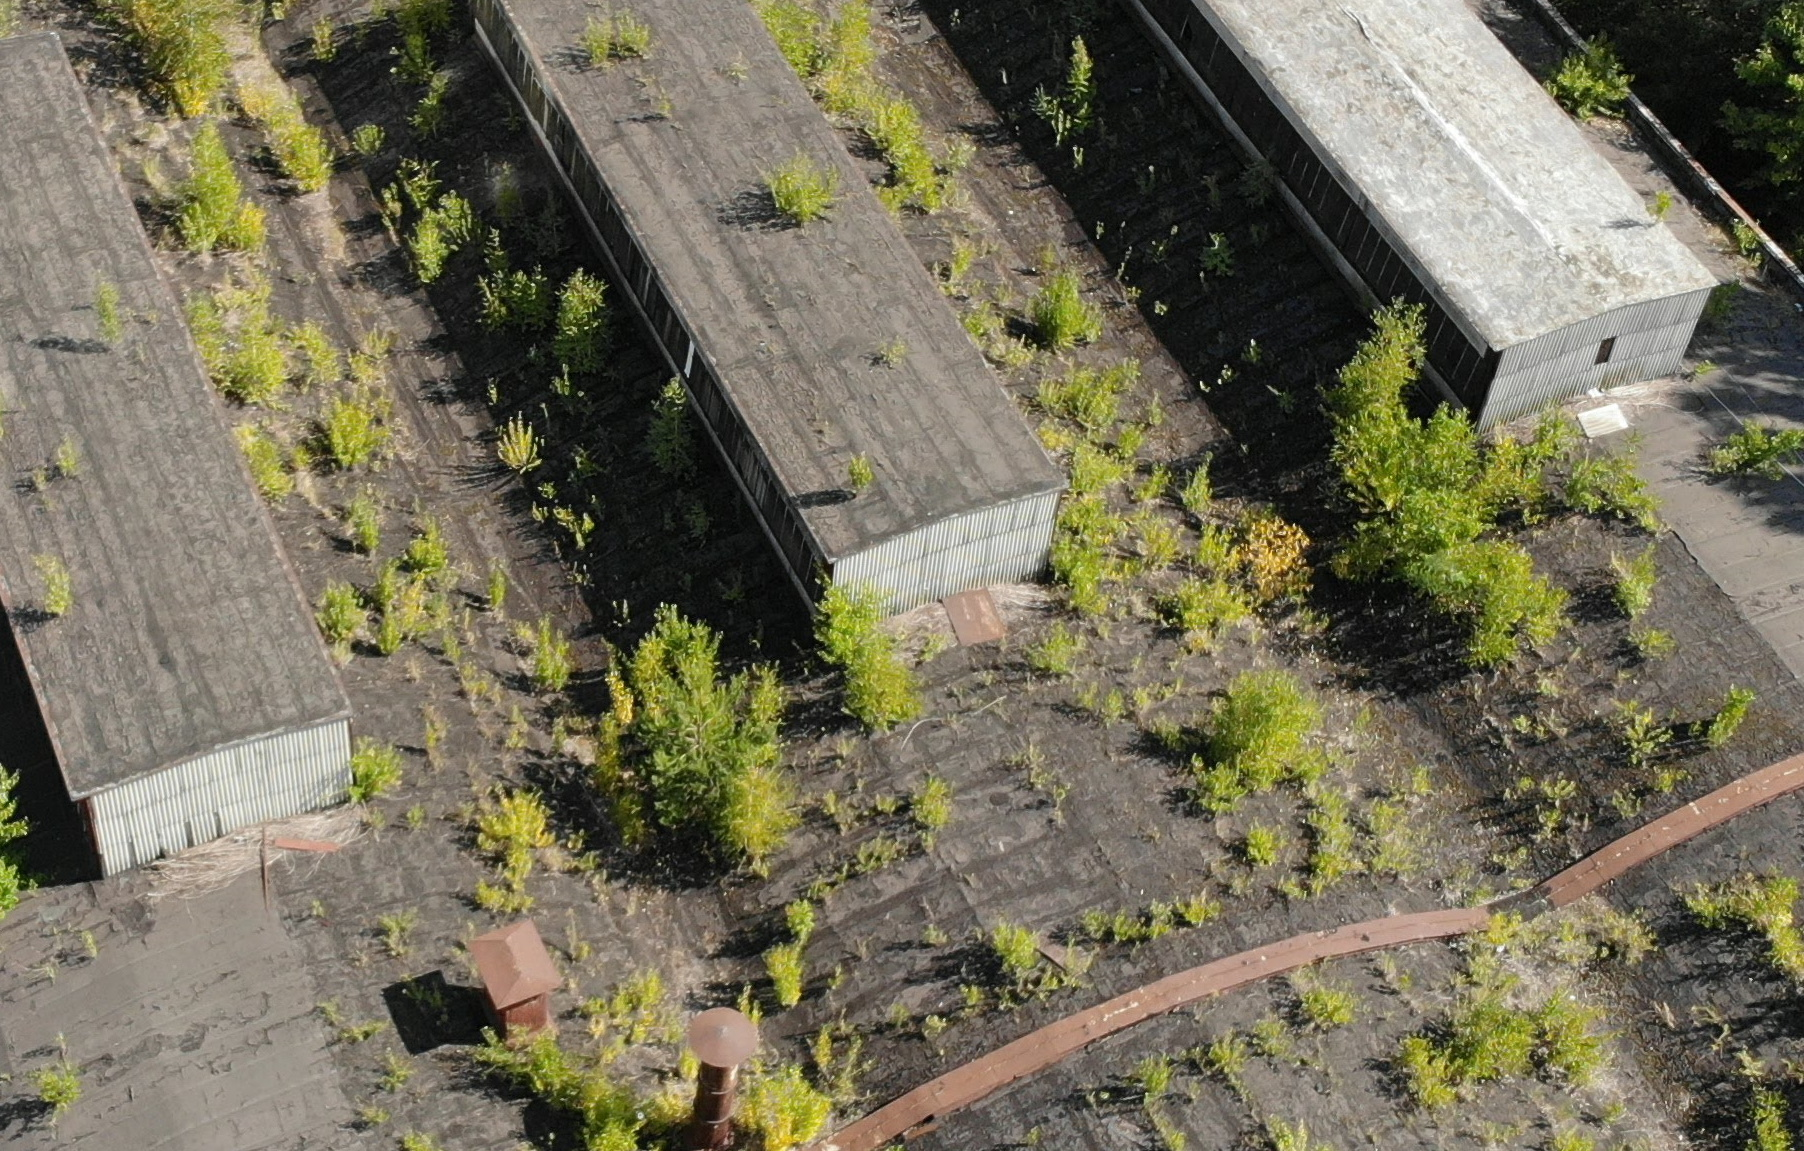tree: (589, 591, 805, 884), (1354, 414, 1506, 591), (1308, 299, 1433, 501), (1431, 520, 1573, 691), (802, 567, 935, 745), (1183, 651, 1327, 801), (160, 118, 280, 263), (505, 1030, 653, 1146), (1428, 954, 1544, 1098), (122, 7, 254, 132), (774, 1, 895, 118), (1049, 379, 1154, 512), (1002, 253, 1115, 375), (853, 87, 951, 228), (199, 285, 293, 420), (1275, 798, 1408, 892), (1223, 510, 1331, 620), (1523, 28, 1644, 124), (550, 257, 636, 385), (1040, 520, 1124, 649), (1696, 404, 1793, 512), (384, 37, 467, 163), (1517, 983, 1609, 1096), (473, 234, 558, 356), (1555, 437, 1662, 531), (1667, 867, 1786, 948), (757, 898, 835, 1019), (320, 370, 394, 487), (651, 374, 719, 499), (1041, 36, 1104, 158), (569, 12, 671, 86), (1604, 701, 1687, 791), (224, 425, 302, 518), (74, 268, 145, 371), (1211, 139, 1291, 230), (389, 203, 460, 304), (24, 543, 100, 637), (748, 159, 845, 232), (362, 552, 426, 660), (1161, 562, 1246, 642), (1385, 1023, 1456, 1119), (746, 1071, 838, 1144), (465, 791, 544, 864), (513, 604, 577, 692), (36, 1048, 104, 1129), (487, 401, 550, 475), (1604, 556, 1662, 634), (331, 493, 394, 564), (1199, 1013, 1260, 1085), (1695, 681, 1755, 754), (1179, 447, 1229, 531), (337, 734, 398, 801), (1162, 888, 1228, 946), (318, 568, 367, 641), (906, 779, 961, 842), (1302, 976, 1360, 1035), (281, 125, 334, 185), (989, 916, 1040, 976), (834, 438, 878, 499)
